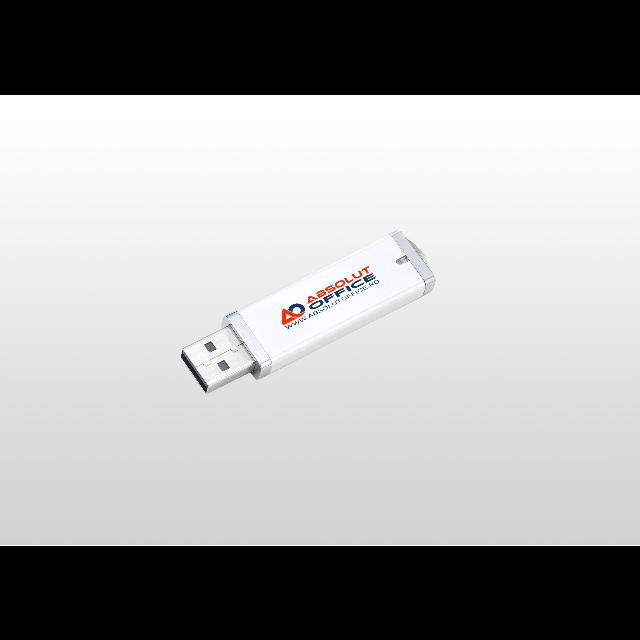USB-Flash-Drive: (179, 230, 436, 394)
